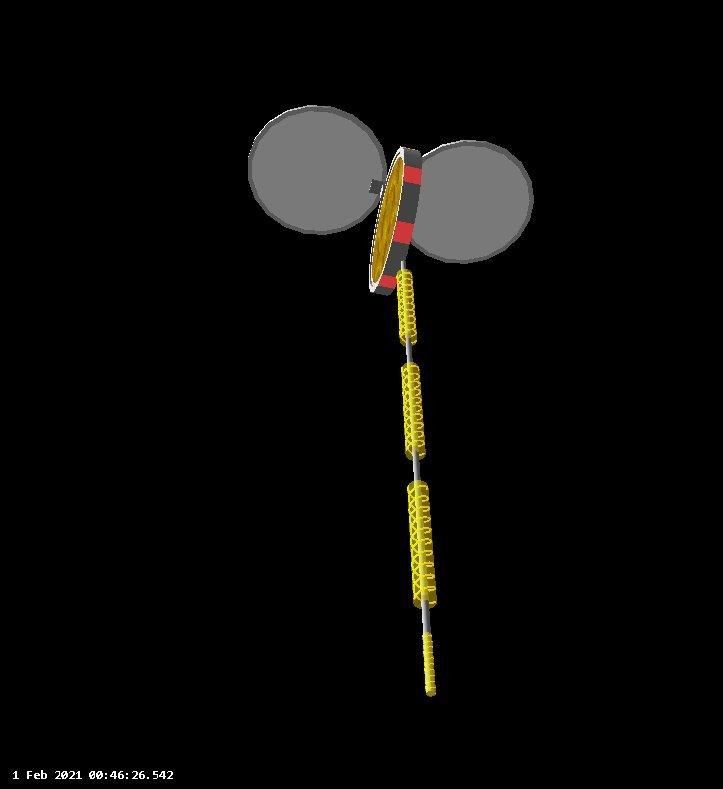antenna: (390, 258, 443, 704), (244, 98, 389, 239), (412, 134, 538, 264)
body: (367, 140, 423, 296)
